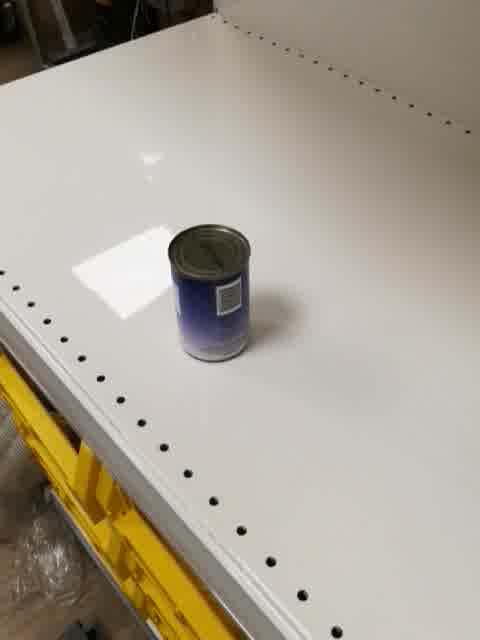sardine: (166, 224, 253, 363)
